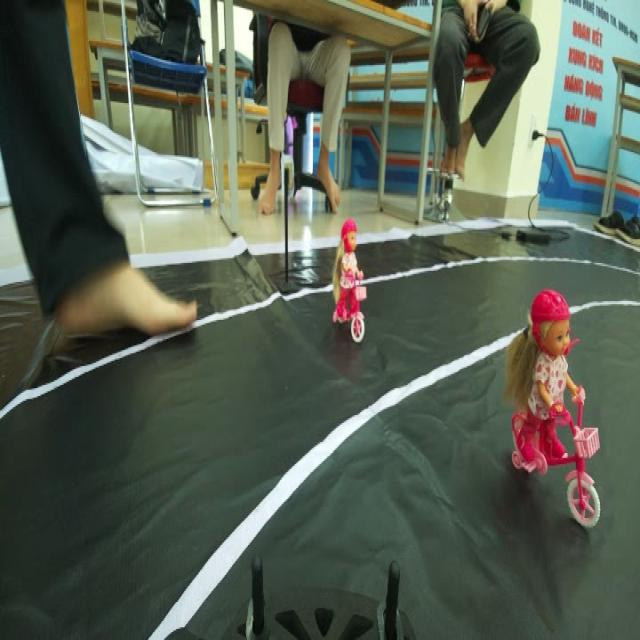pedestrian: (504, 284, 607, 542), (331, 220, 368, 344)
